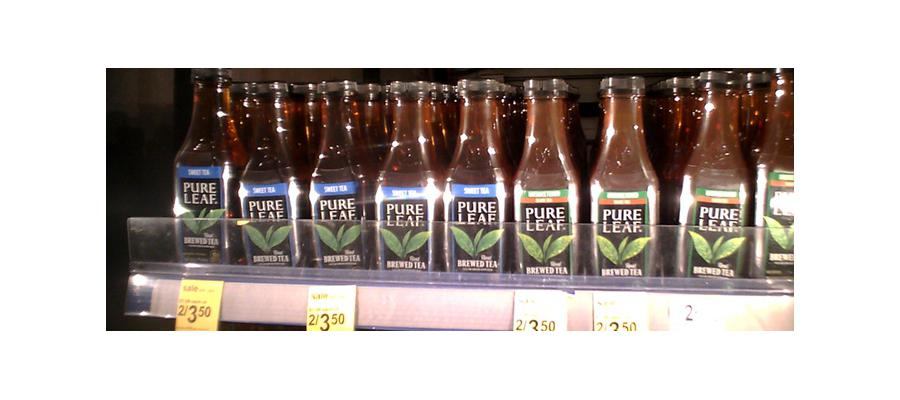bottle: (588, 69, 663, 284), (677, 74, 750, 285), (515, 66, 584, 284), (442, 70, 513, 281), (372, 73, 443, 277), (235, 78, 307, 268), (303, 73, 369, 272), (172, 64, 235, 267), (752, 69, 798, 279)
